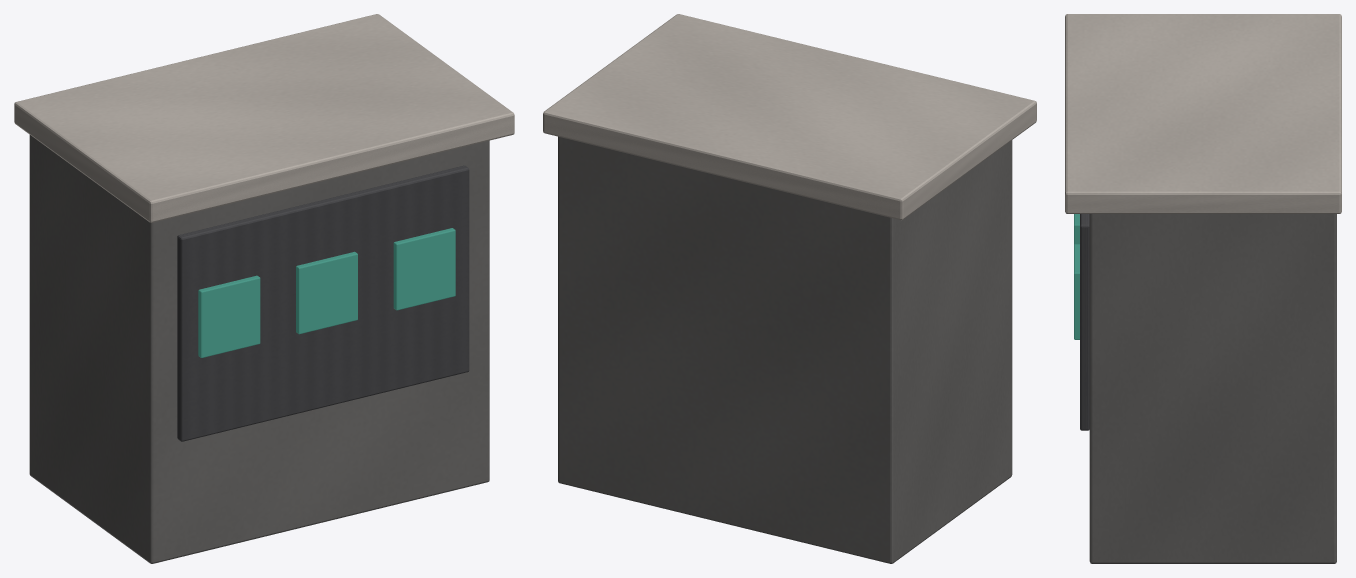
File: workshop_console.glb
3 views of the same model, side by side, from view 1: azimuth 30°, elevation 25°; view 2: azimuth 150°, elevation 25°; view 3: azimuth 270°, elevation 25° (orthographic). The views are drawn at different scales.
Parts seen in each view (by area): view 1: base.011, work_surface.001, face.001, instrument.002, instrument, instrument.001; view 2: base.011, work_surface.001; view 3: base.011, work_surface.001, face.001, instrument.002.
Boxes of the visible parts, x1,y1,x2,y2 form: base.011: (29, 135, 489, 563); work_surface.001: (14, 14, 514, 222); face.001: (177, 165, 469, 441); instrument.002: (393, 228, 455, 310); instrument: (198, 275, 260, 357); instrument.001: (296, 251, 357, 334); base.011: (558, 136, 1012, 563); work_surface.001: (543, 14, 1036, 220); base.011: (1089, 214, 1336, 563); work_surface.001: (1065, 14, 1341, 213); face.001: (1080, 214, 1089, 430); instrument.002: (1074, 244, 1079, 339).
Size of the model in its own units: 0.86 by 0.845 by 0.56.
4 materials, 3 textured.
